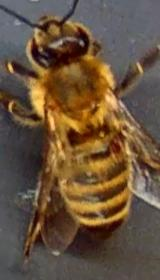varroa_mite: (104, 125, 130, 158)
